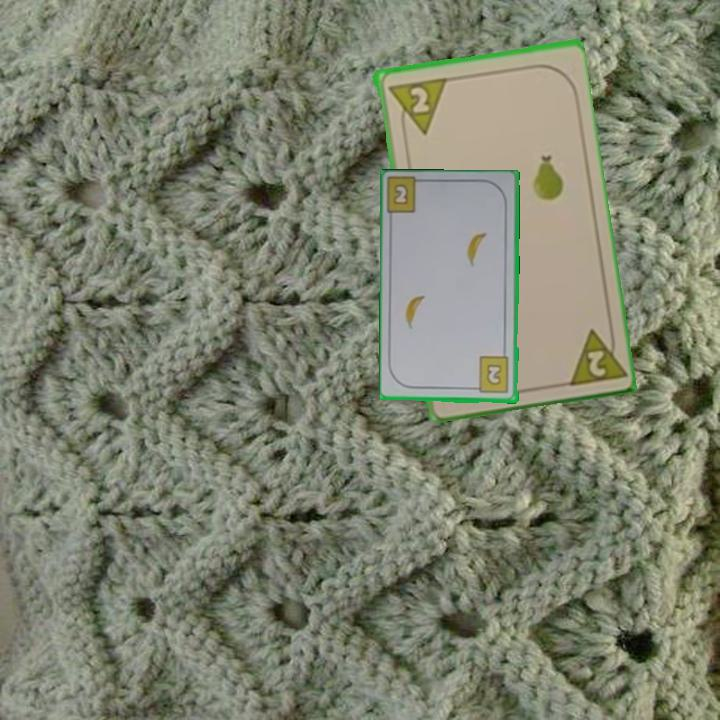2b: (470, 354, 512, 396), (390, 180, 411, 208)
2p: (561, 321, 626, 389), (384, 74, 447, 140)
